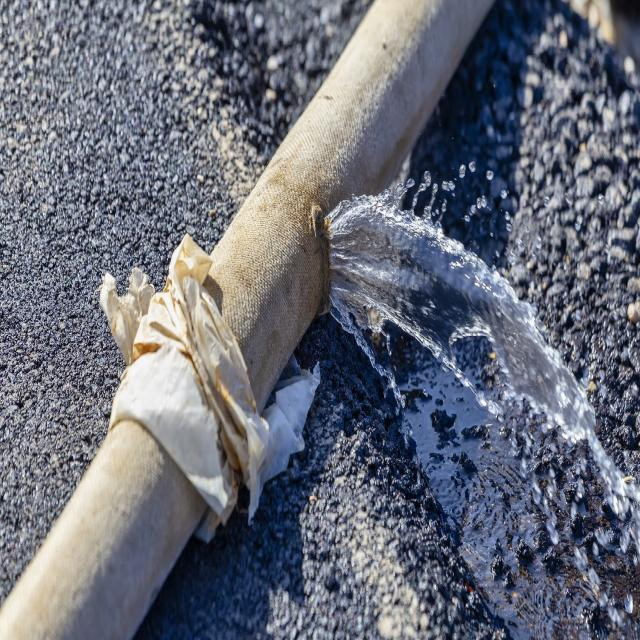leak: (326, 192, 640, 550)
